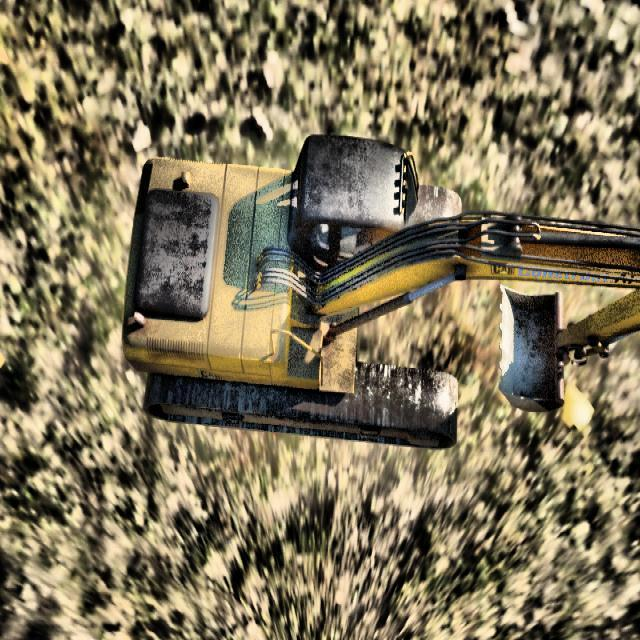excavator: (120, 134, 640, 450)
